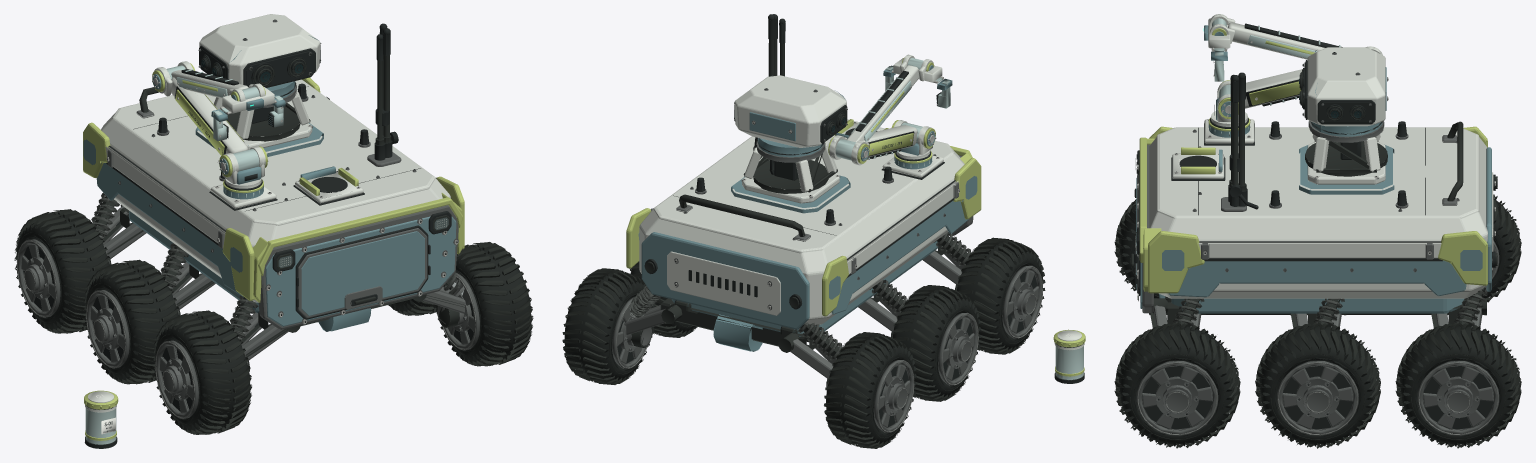
The model's file is research-rover.glb.
3 views of the same model, side by side, from view 1: azimuth 30°, elevation 25°; view 2: azimuth 150°, elevation 25°; view 3: azimuth 270°, elevation 25° (orthographic). The views are drawn at different scales.
Parts seen in each view (by area): view 1: 00 | Main armored chassis & deck, 01 | Front armor, inspection hatch & lamps, 07 | Port front complete wheel, 07 | Port middle complete wheel, 07 | Port rear complete wheel, 02 | Port side armor & corner guards, 07 | Starboard front complete wheel, 09 | Faceted multi-camera sensor head, 08 | Open sensor mast, turntable & wiring, ARM 03 | upper link and shoulder drive, 10 | Triple communications antenna assembly, SAMPLE 01 | deck receiving cradle (+12 smaller); view 2: 00 | Main armored chassis & deck, 04 | Rear cooling panel, sockets & carry rail, 07 | Port rear complete wheel, 07 | Port front complete wheel, 07 | Port middle complete wheel, 07 | Starboard rear complete wheel, 02 | Port side armor & corner guards, 09 | Faceted multi-camera sensor head, 08 | Open sensor mast, turntable & wiring, 05 | Undercarriage, subframe & drive cases, ARM 04 | forearm and elbow drive, ARM 03 | upper link and shoulder drive (+11 smaller); view 3: 00 | Main armored chassis & deck, 03 | Starboard side armor & corner guards, 07 | Starboard front complete wheel, 07 | Starboard rear complete wheel, 07 | Starboard middle complete wheel, 09 | Faceted multi-camera sensor head, 08 | Open sensor mast, turntable & wiring, 01 | Front armor, inspection hatch & lamps, 10 | Triple communications antenna assembly, ARM 04 | forearm and elbow drive, 07 | Port rear complete wheel, ARM 03 | upper link and shoulder drive (+10 smaller).
Part boxes in pixels (box(x1,y1,x2,y2)): 00 | Main armored chassis & deck: box(101, 79, 450, 313); 01 | Front armor, inspection hatch & lamps: box(252, 193, 463, 329); 07 | Port front complete wheel: box(153, 310, 251, 434); 07 | Port middle complete wheel: box(84, 259, 179, 384); 07 | Port rear complete wheel: box(14, 209, 109, 333); 02 | Port side armor & corner guards: box(83, 122, 254, 300); 07 | Starboard front complete wheel: box(436, 242, 533, 366); 09 | Faceted multi-camera sensor head: box(198, 14, 321, 87); 08 | Open sensor mast, turntable & wiring: box(195, 81, 323, 156); ARM 03 | upper link and shoulder drive: box(154, 61, 268, 177); 10 | Triple communications antenna assembly: box(367, 23, 401, 166); SAMPLE 01 | deck receiving cradle: box(293, 166, 364, 205); 00 | Main armored chassis & deck: box(639, 119, 964, 336); 04 | Rear cooling panel, sockets & carry rail: box(641, 194, 810, 329); 07 | Port rear complete wheel: box(824, 332, 916, 448); 07 | Port front complete wheel: box(955, 237, 1045, 354); 07 | Port middle complete wheel: box(891, 285, 980, 401); 07 | Starboard rear complete wheel: box(562, 268, 654, 384); 02 | Port side armor & corner guards: box(822, 158, 981, 316); 09 | Faceted multi-camera sensor head: box(734, 75, 847, 147); 08 | Open sensor mast, turntable & wiring: box(731, 138, 850, 213); 05 | Undercarriage, subframe & drive cases: box(660, 245, 946, 351); ARM 04 | forearm and elbow drive: box(828, 54, 933, 163); ARM 03 | upper link and shoulder drive: box(829, 120, 936, 165); 00 | Main armored chassis & deck: box(1149, 121, 1487, 313); 03 | Starboard side armor & corner guards: box(1148, 231, 1487, 297); 07 | Starboard front complete wheel: box(1114, 323, 1240, 448); 07 | Starboard rear complete wheel: box(1395, 323, 1521, 448); 07 | Starboard middle complete wheel: box(1255, 322, 1380, 448); 09 | Faceted multi-camera sensor head: box(1299, 47, 1388, 126); 08 | Open sensor mast, turntable & wiring: box(1299, 121, 1394, 194); 01 | Front armor, inspection hatch & lamps: box(1131, 137, 1161, 313); 10 | Triple communications antenna assembly: box(1221, 72, 1258, 211); ARM 04 | forearm and elbow drive: box(1209, 14, 1342, 59); 07 | Port rear complete wheel: box(1482, 194, 1521, 302); ARM 03 | upper link and shoulder drive: box(1218, 46, 1382, 118).
Size of the model in its own units: 3.3 by 2.49 by 2.73.
